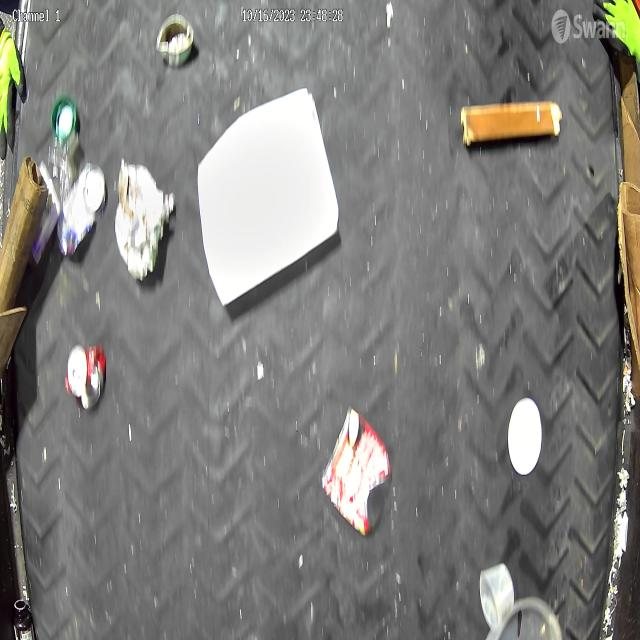can: (321, 406, 392, 536), (59, 158, 108, 256), (69, 341, 107, 411), (155, 13, 198, 69)
